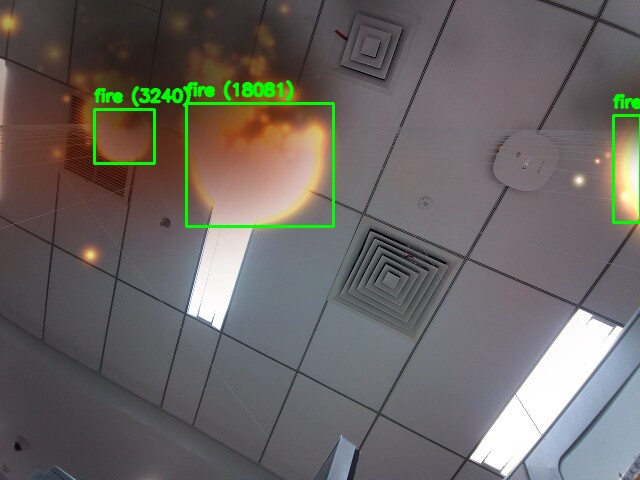fire: (186, 103, 333, 226), (94, 109, 154, 163), (613, 115, 640, 222)
